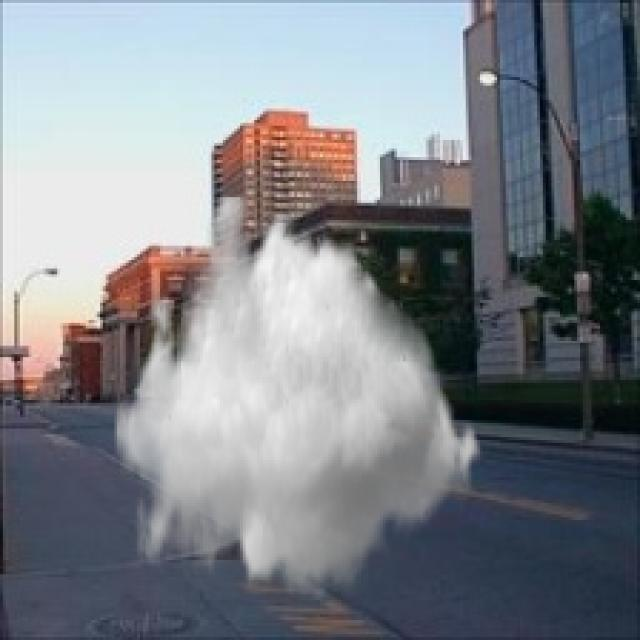Smoke: (114, 195, 489, 600)
